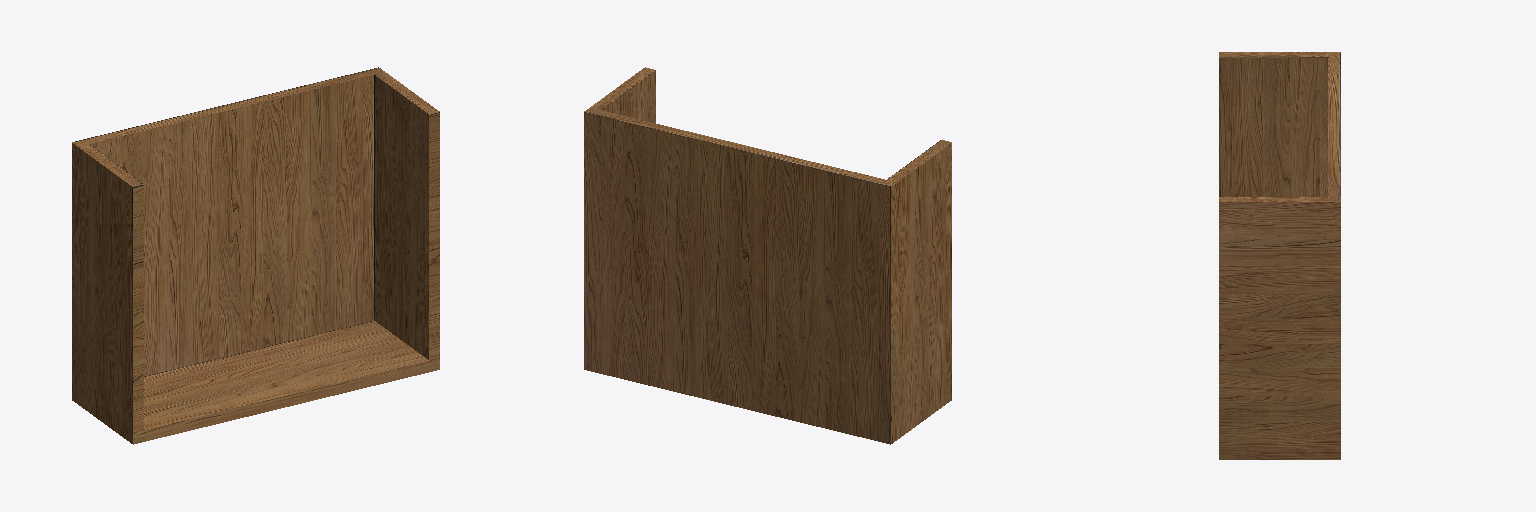
The picture shows the model from 3 angles: view 1: azimuth 30°, elevation 25°; view 2: azimuth 150°, elevation 25°; view 3: azimuth 270°, elevation 25°; orthographic projection.
Parts seen in each view (by area): view 1: drawer_compartment; view 2: drawer_compartment; view 3: drawer_compartment.
Part boxes in pixels (bbox=[...]): drawer_compartment: bbox=[72, 67, 439, 444]; drawer_compartment: bbox=[584, 67, 951, 444]; drawer_compartment: bbox=[1219, 52, 1340, 459].
Size of the model in its own units: 0.55 by 0.44 by 0.19.
1 materials, 1 textured.